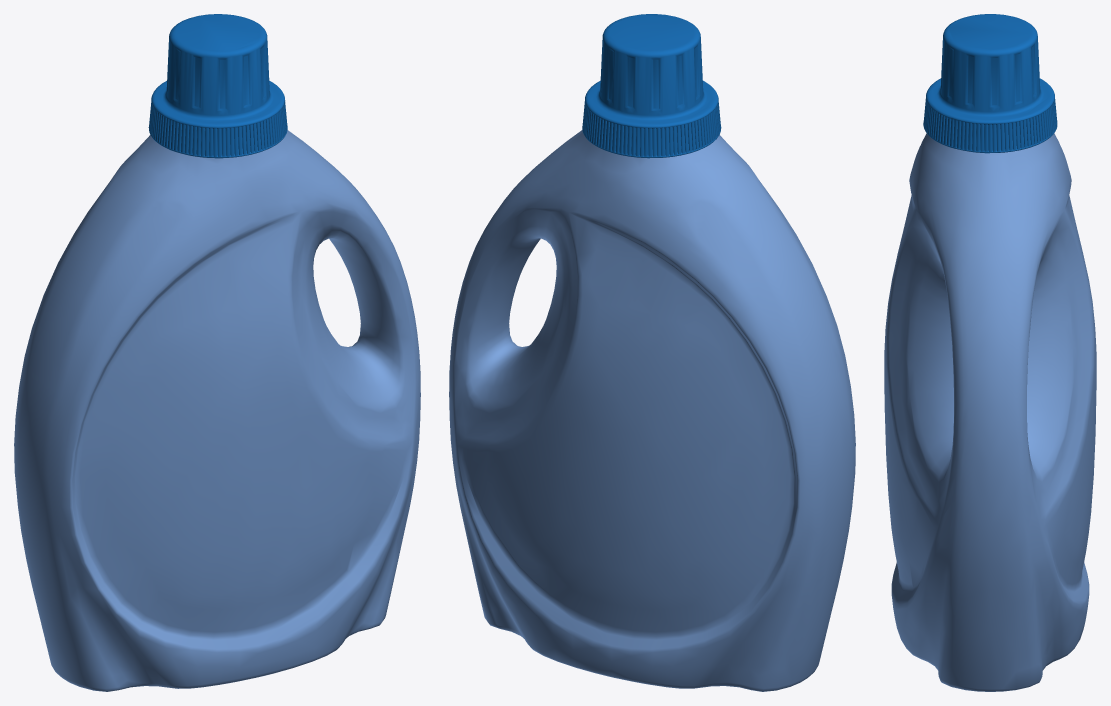
Rendered from react-detergent-54HGb7Ej.glb.
3 views of the same model, side by side, from view 1: azimuth 30°, elevation 25°; view 2: azimuth 150°, elevation 25°; view 3: azimuth 270°, elevation 25° (orthographic). The views are drawn at different scales.
Parts seen in each view (by area): view 1: detergent; view 2: detergent; view 3: detergent.
Boxes of the visible parts, left/top/right/bottom form: detergent: left=14, top=14, right=420, bottom=691; detergent: left=449, top=14, right=855, bottom=691; detergent: left=884, top=14, right=1096, bottom=691.
Size of the model in its own units: 0.1972 by 0.3002 by 0.0984.
Materials: 1 (1 with a texture image).
